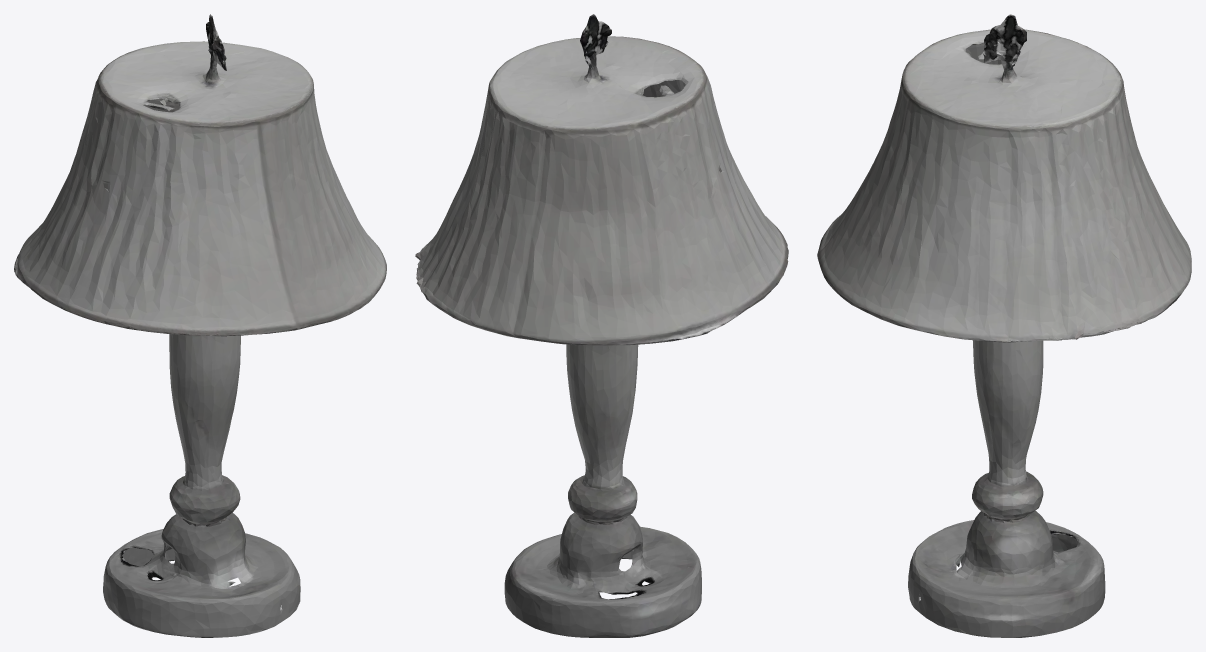
The model's file is table-lamp.glb.
The picture shows the model from 3 angles, left to right: view 1: azimuth 30°, elevation 25°; view 2: azimuth 150°, elevation 25°; view 3: azimuth 270°, elevation 25°; orthographic projection.
Visible parts, largest first — view 1: world; view 2: world; view 3: world.
Boxes of the visible parts, box(x1,y1,x2,y2) form: world: box(14, 14, 386, 637); world: box(415, 14, 788, 637); world: box(817, 14, 1191, 637).
Bounding box in the file's own units: 0.4508 × 0.7857 × 0.4543.
Materials: 1 (1 with a texture image).
